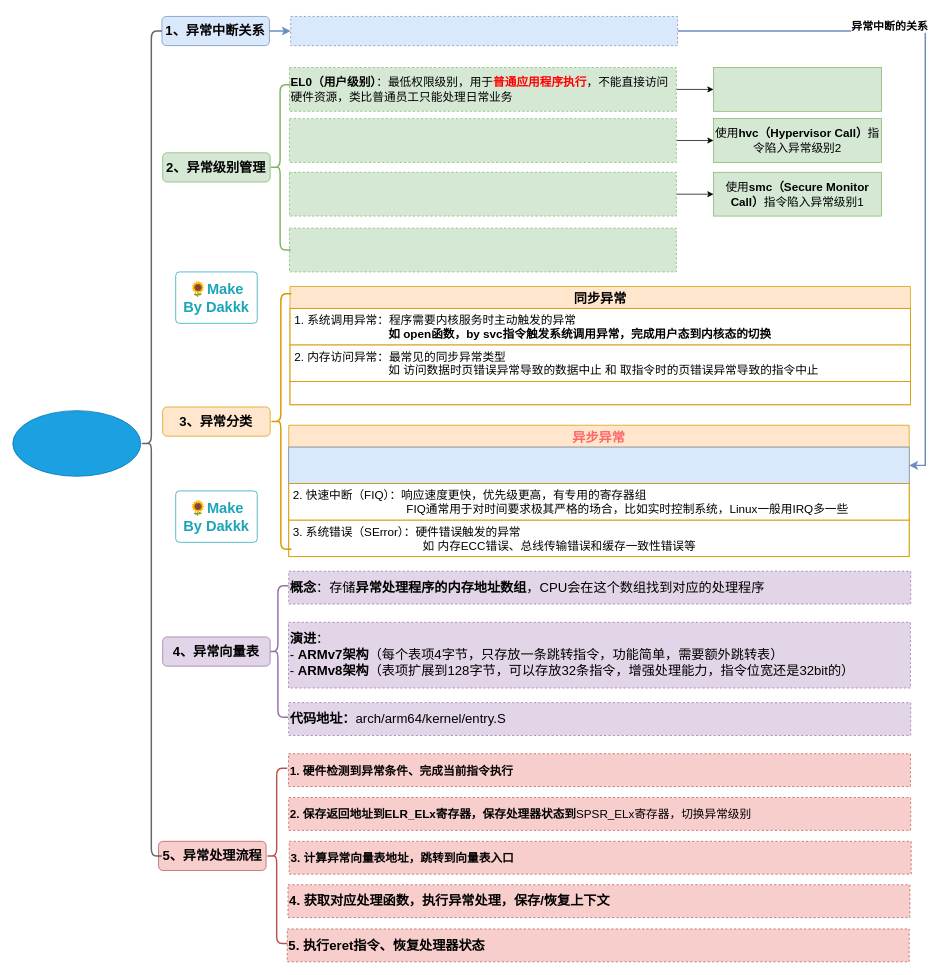
Some shapes in this 945 by 975 pixel diagram are drawn without their labels. Each missing label, with the centre of its shape:
"1. 普通中断（IRQ）：普通优先级的中断，大部分外设使用的中断类型 如 网卡接收到数据包、键盘按键、定时器超时等" belongs at point (598, 465).
"3. 其他同步异常：对齐异常、未定义异常、调试异常" belongs at point (599, 393).
"ARM64体系结构中，中断是异常的一个子集" belongs at point (484, 31).
"ARM异常体系和 中断" belongs at point (76, 443).
"EL1（内核级别）： 用于 操作系统内核执行 ，拥有管理硬件资源的权限，可以访问系统寄存器，类比部门经理可以调配部门资源" belongs at point (482, 140).
"EL2（Hypervisor级别）： 用于 虚拟化环境中的监管程序 ，可以管理多个虚拟机，控制EL1的行为，类比总经理可以管理多个部门" belongs at point (482, 194).
"EL3（Secure Monitor级别）： 最高权限级别，用于安全相关操作，管理安全状态切换，类比董事长拥有最高决策权，可以处理最机密的安全事务" belongs at point (482, 249).
"使用 svc（Supervisor Call） 指令陷入异常级别1" belongs at point (797, 89).
